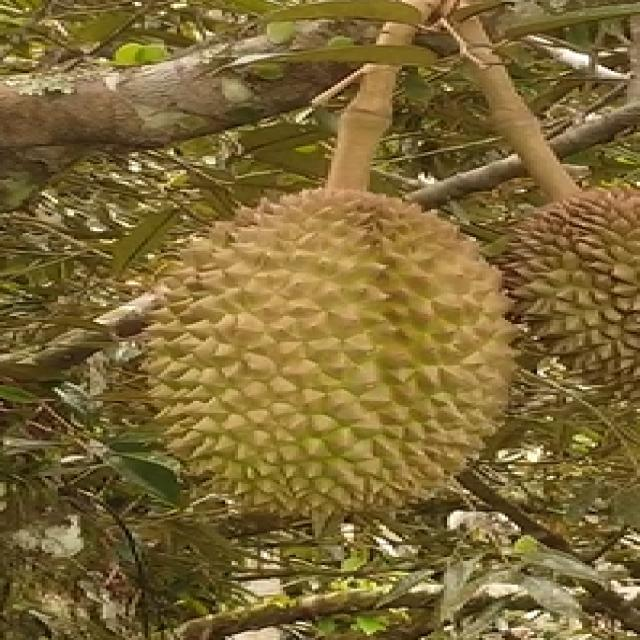mature: (146, 189, 521, 504)
